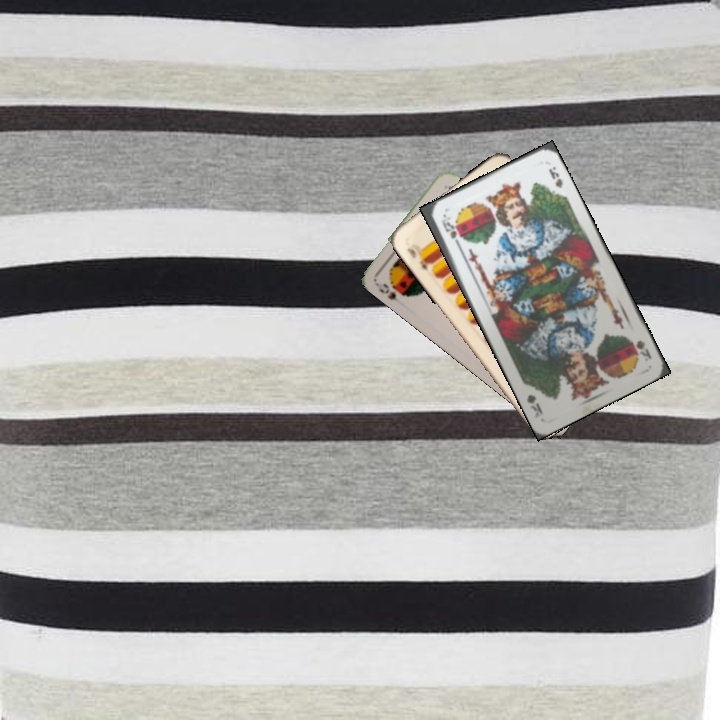E10: (403, 243, 434, 273)
SK: (437, 212, 463, 250), (627, 336, 654, 364)
SO: (370, 278, 410, 307)
